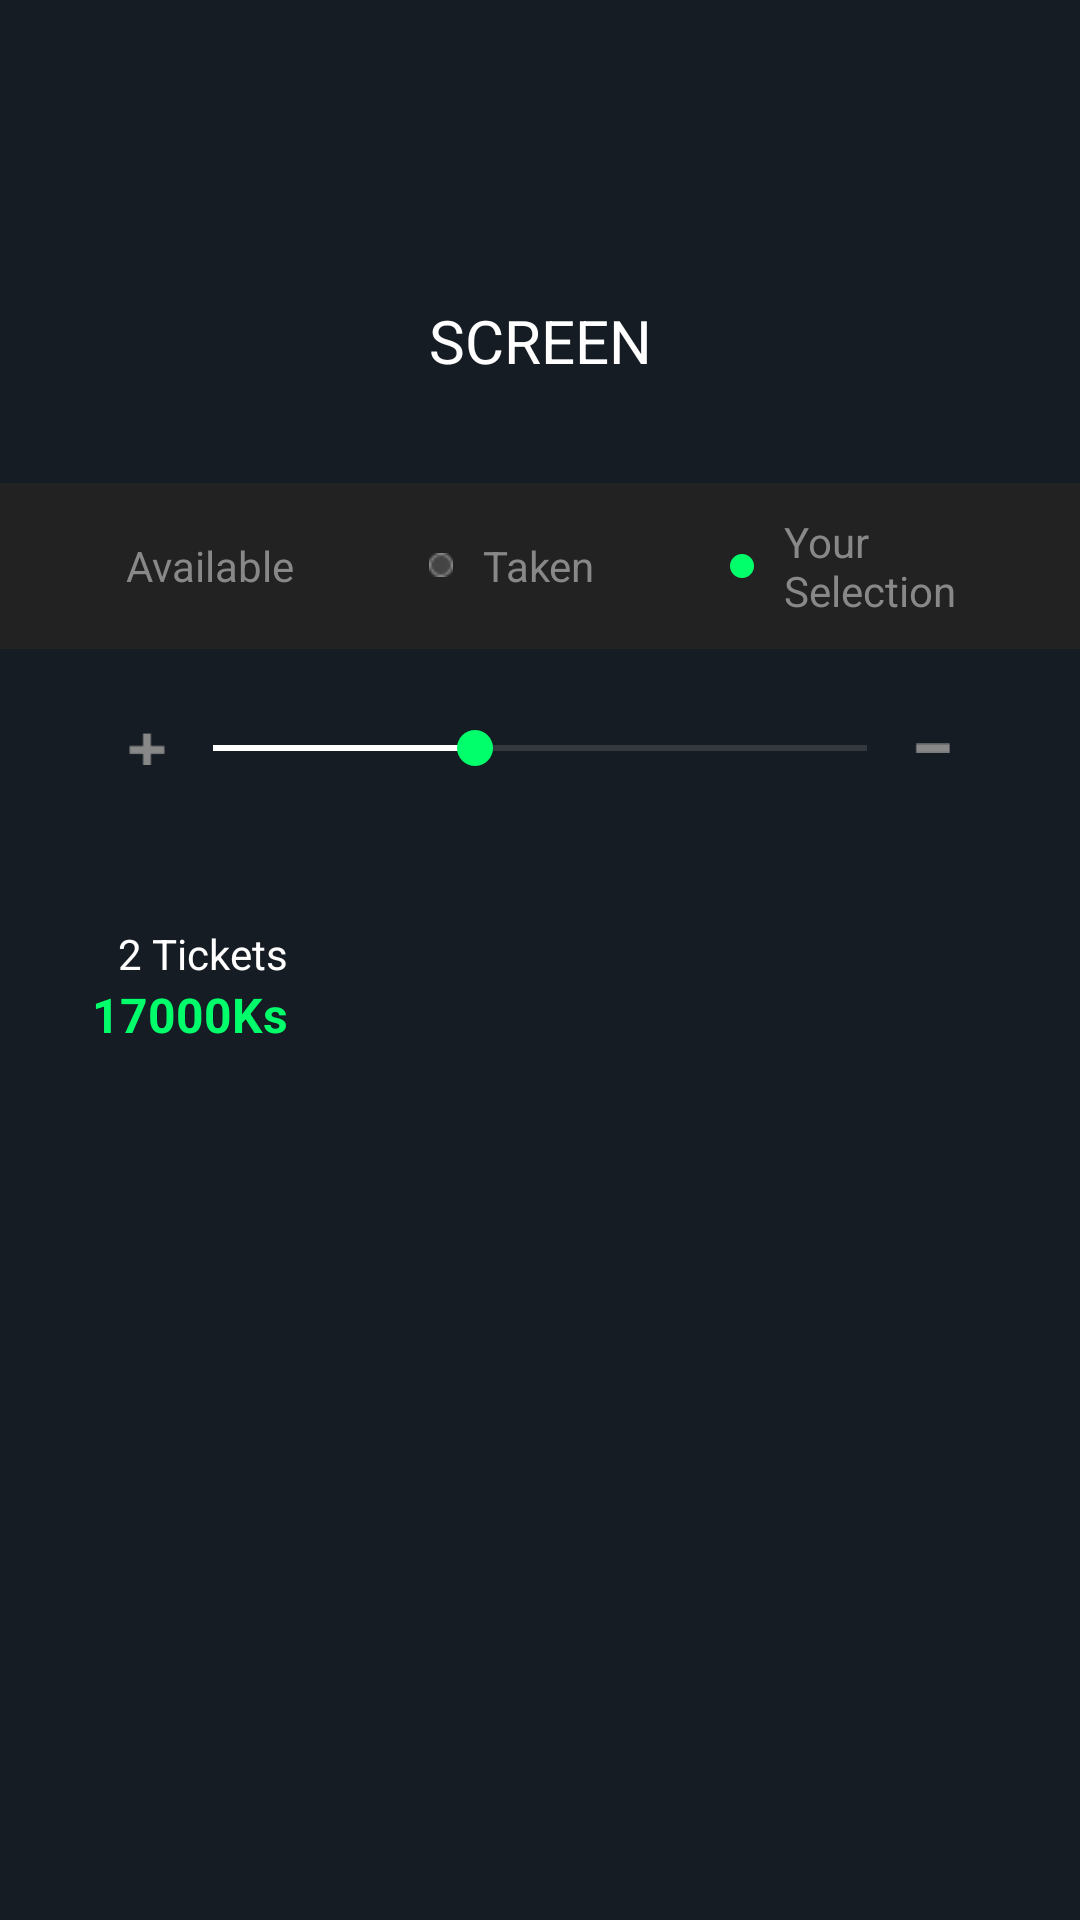

Named icons in this screenshot (1080x1920) and their bounding boxes, (x1, y1, x2, y2):
circle: (429, 553, 453, 577)
minus: (916, 743, 950, 753)
plus: (129, 733, 165, 765)
